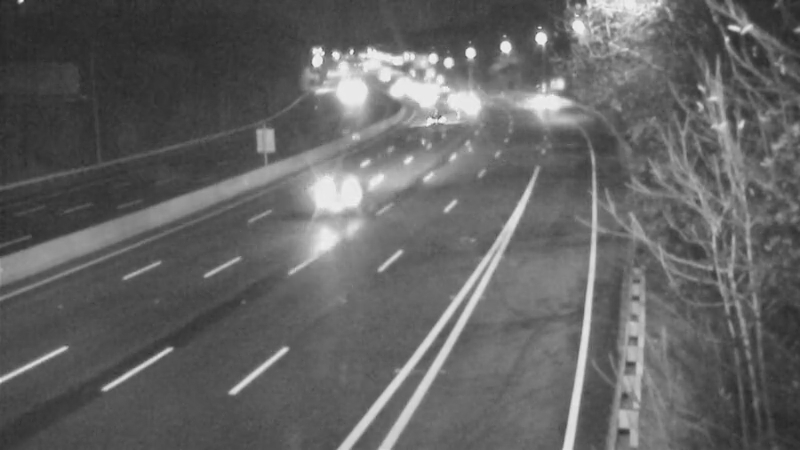vehicle: (305, 148, 385, 228), (504, 73, 554, 123), (439, 86, 489, 136), (398, 103, 448, 153)
